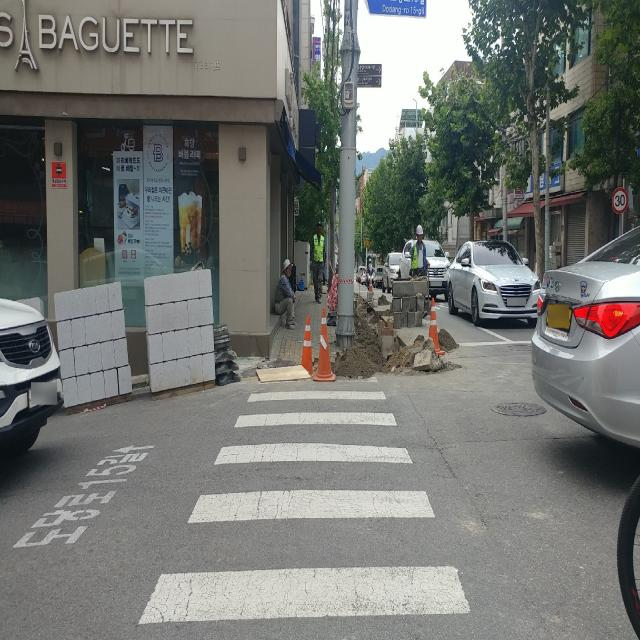횡단보도: (136, 388, 472, 628)
